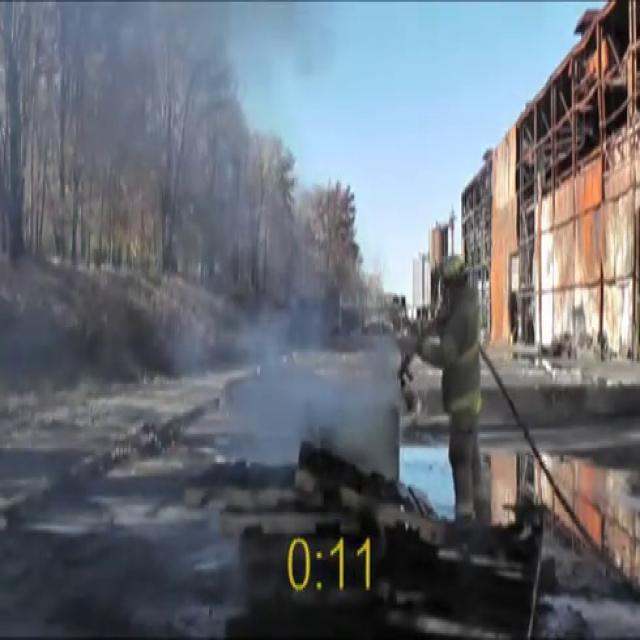Smoke: (156, 54, 397, 468)
